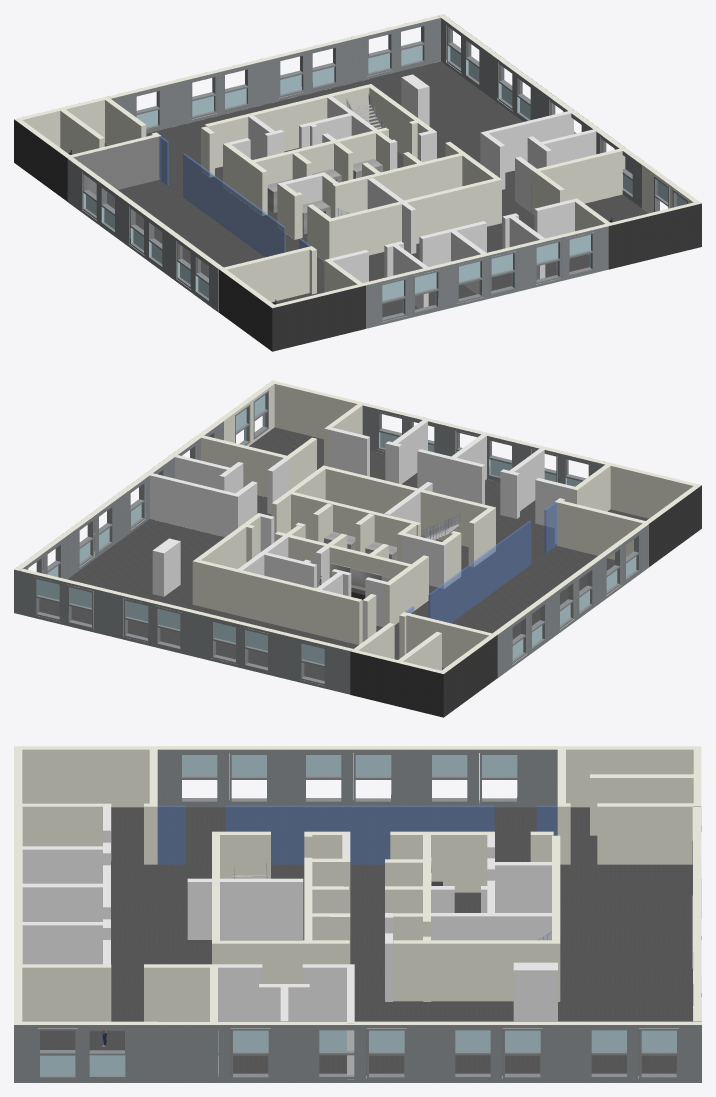
3 renders of one model, top to bottom at view 1: azimuth 30°, elevation 25°; view 2: azimuth 150°, elevation 25°; view 3: azimuth 270°, elevation 25°, orthographic. The views are drawn at different scales.
Visible parts, largest first — view 1: e22; view 2: e22; view 3: e22.
Boxes of the visible parts, box(x1,y1,x2,y2) form: e22: box(14, 14, 701, 351); e22: box(14, 380, 701, 717); e22: box(14, 746, 701, 1082).
Bounding box in the file's own units: 41.43 × 4.07 × 43.16.
Materials: 20 (8 with a texture image).
